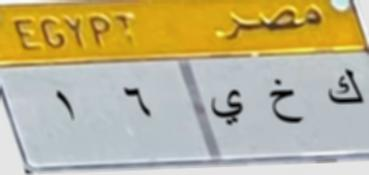1: (38, 80, 92, 130)
6: (119, 78, 159, 128)
kaaf: (324, 63, 368, 117)
khaa: (264, 72, 301, 138)
yaa: (203, 81, 251, 135)
